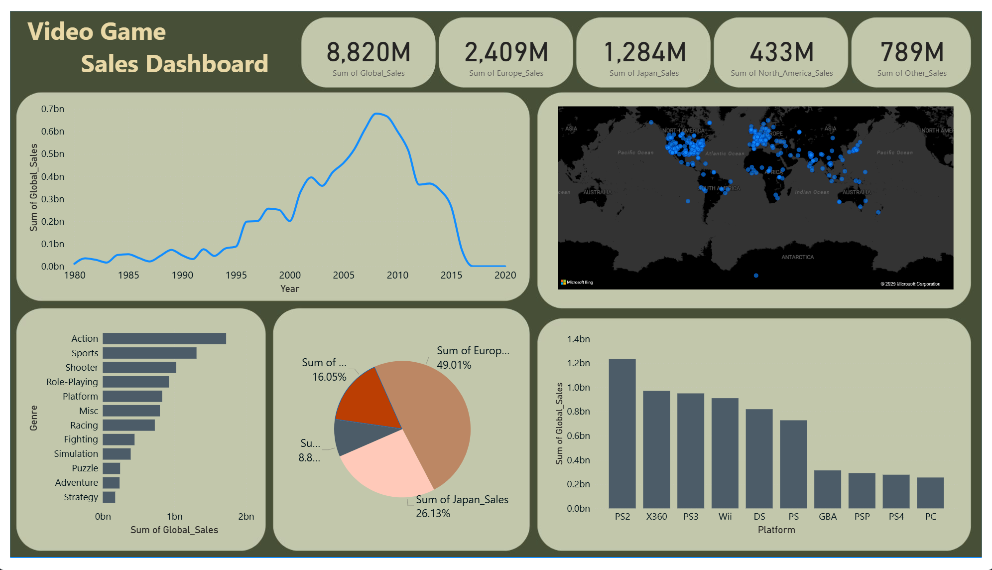

This screenshot's page, from the dashboard's own definition file:
{"tool":"powerbi","page":{"name":"Page 1","canvas":[1920,1080],"ordinal":0},"visuals":[{"type":"card","fields":{"Values":["Sum(video game sales.Japan_Sales)"]},"box":[1130.7,15.4,244.7,136.7],"z":0},{"type":"card","fields":{"Values":["Sum(video game sales.North_America_Sales)"]},"box":[1406.2,15.4,238,136.7],"z":1000},{"type":"card","fields":{"Values":["Sum(video game sales.Other_Sales)"]},"box":[1670.7,15.4,222.6,136.7],"z":2000},{"type":"card","fields":{"Values":["Sum(video game sales.Europe_Sales)"]},"box":[855.2,15.4,251.3,136.7],"z":3000},{"type":"card","fields":{"Values":["Sum(video game sales.Global_Sales)"]},"box":[586.3,15.4,244.7,136.7],"z":4000},{"type":"barChart","fields":{"Category":["video game sales.Genre"],"Y":["Sum(video game sales.Global_Sales)"]},"box":[28.7,610.5,465.1,429.8],"z":5000},{"type":"map","fields":{"Category":["video game sales.Publisher"]},"box":[1069,174.1,808.9,390.1],"z":6000},{"type":"columnChart","fields":{"Y":["Sum(video game sales.Global_Sales)"],"Category":["video game sales.Platform"]},"box":[1069,628.2,808.9,412.2],"z":7000},{"type":"pieChart","fields":{"Y":["Sum(video game sales.Europe_Sales)","Sum(video game sales.Japan_Sales)","Sum(video game sales.North_America_Sales)","Sum(video game sales.Other_Sales)"]},"box":[557.6,610.5,434.2,429.8],"z":8000},{"type":"lineChart","fields":{"Category":["video game sales.Year"],"Y":["Sum(video game sales.Global_Sales)"]},"box":[28.7,174.1,976.4,390.1],"z":9000},{"type":"textbox","box":[28.7,0,506.9,149.9],"z":10000}]}

Visuals, with their boxes in screenshot pixels (x1, y1, x2, y2), scaled from the page's 1920x1080 canvas onto the 992x570 screenshot:
card - Sum(video game sales.Japan_Sales): bbox(584, 8, 711, 80)
card - Sum(video game sales.North_America_Sales): bbox(727, 8, 850, 80)
card - Sum(video game sales.Other_Sales): bbox(863, 8, 978, 80)
card - Sum(video game sales.Europe_Sales): bbox(442, 8, 572, 80)
card - Sum(video game sales.Global_Sales): bbox(303, 8, 429, 80)
barChart - video game sales.Genre x Sum(video game sales.Global_Sales): bbox(15, 322, 255, 549)
map - video game sales.Publisher: bbox(552, 92, 970, 298)
columnChart - Sum(video game sales.Global_Sales) x video game sales.Platform: bbox(552, 332, 970, 549)
pieChart - Sum(video game sales.Europe_Sales) x Sum(video game sales.Japan_Sales): bbox(288, 322, 512, 549)
lineChart - video game sales.Year x Sum(video game sales.Global_Sales): bbox(15, 92, 519, 298)
textbox: bbox(15, 0, 277, 79)
